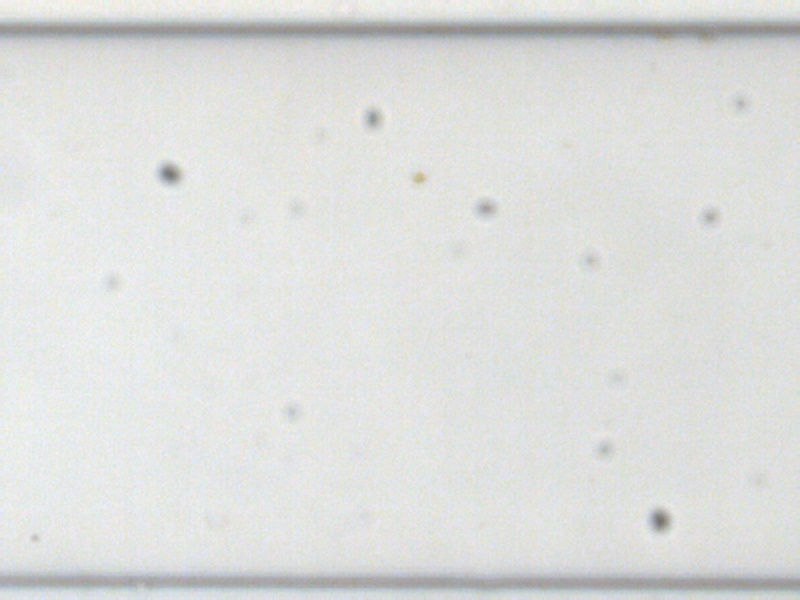Chlorella: (410, 171, 425, 183), (27, 531, 41, 543)
